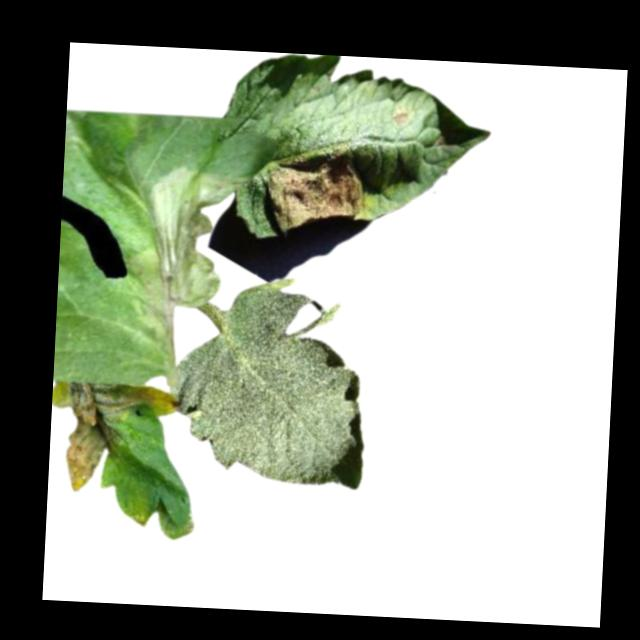Late_blight: (119, 163, 241, 375), (49, 381, 175, 497), (263, 144, 366, 233), (390, 107, 410, 125)
healthy: (165, 270, 370, 489)
